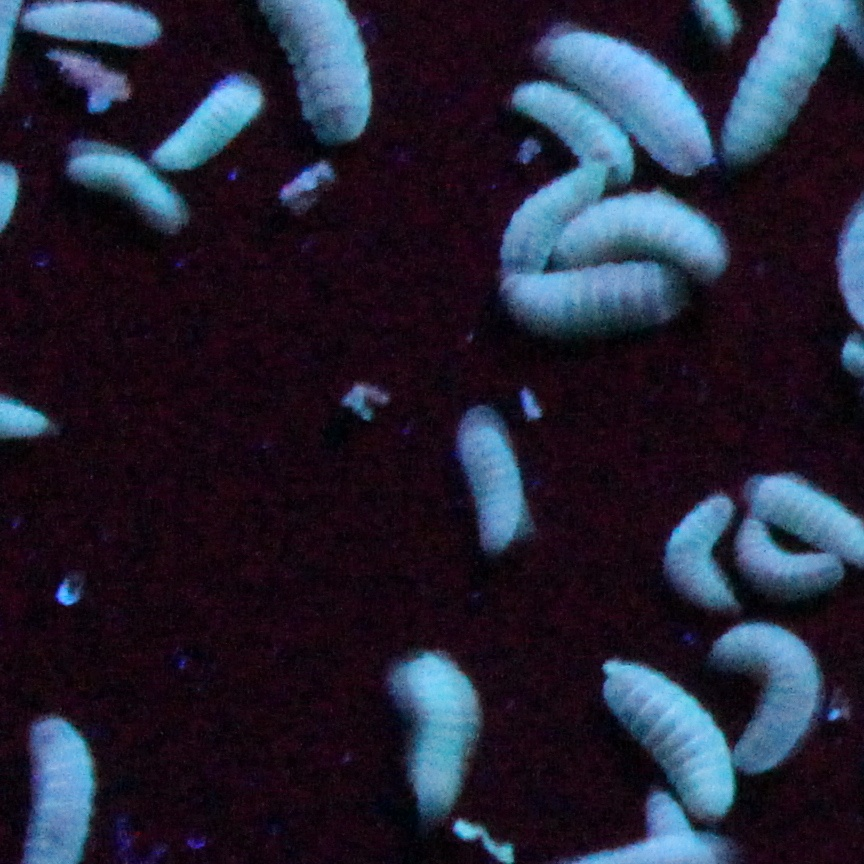larve: (574, 27, 697, 166), (377, 649, 482, 806), (594, 666, 717, 800), (711, 637, 822, 766), (557, 200, 725, 272), (510, 84, 633, 181), (642, 483, 737, 606), (482, 166, 605, 260), (448, 412, 528, 537), (68, 152, 191, 226), (148, 86, 268, 157), (499, 277, 679, 320), (34, 3, 159, 49)
